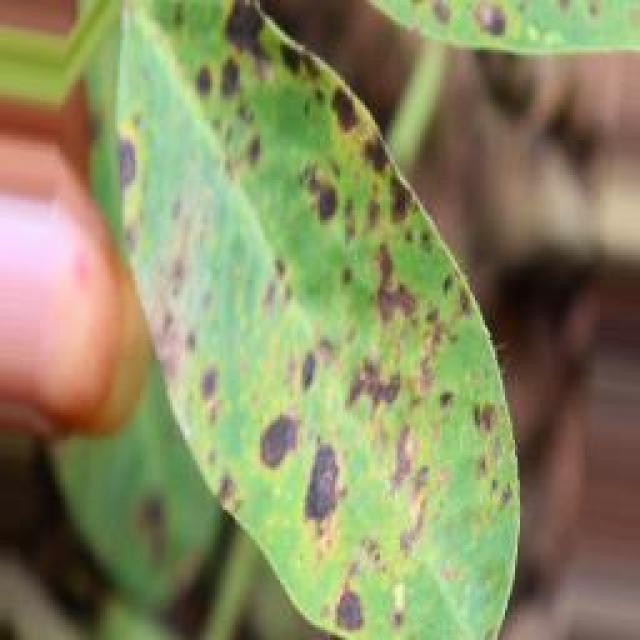Yellowish: (13, 0, 598, 640)
